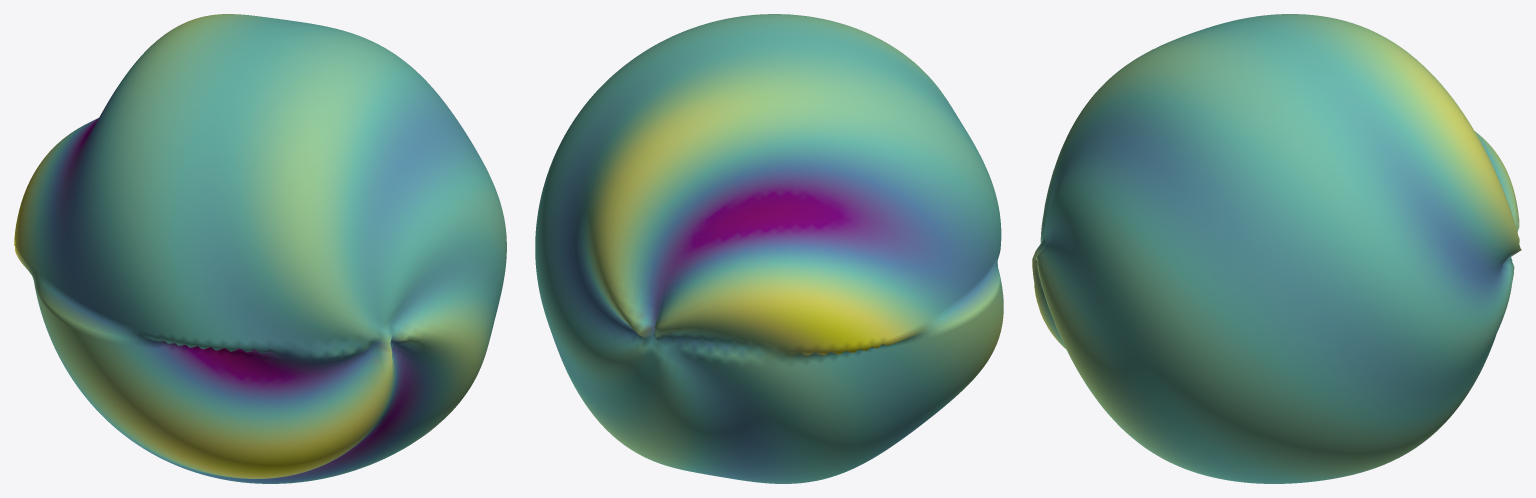
The model's file is sphere_frame_0015.glb.
The picture shows the model from 3 angles, left to right: view 1: azimuth 30°, elevation 25°; view 2: azimuth 150°, elevation 25°; view 3: azimuth 270°, elevation 25°; orthographic projection.
Parts seen in each view (by area): view 1: world; view 2: world; view 3: world.
Part boxes in pixels (box(x1,y1,x2,y2)): world: box(14, 14, 506, 483); world: box(535, 14, 1003, 483); world: box(1032, 14, 1521, 483).
Size of the model in its own units: 2.19 by 2.15 by 2.25.
